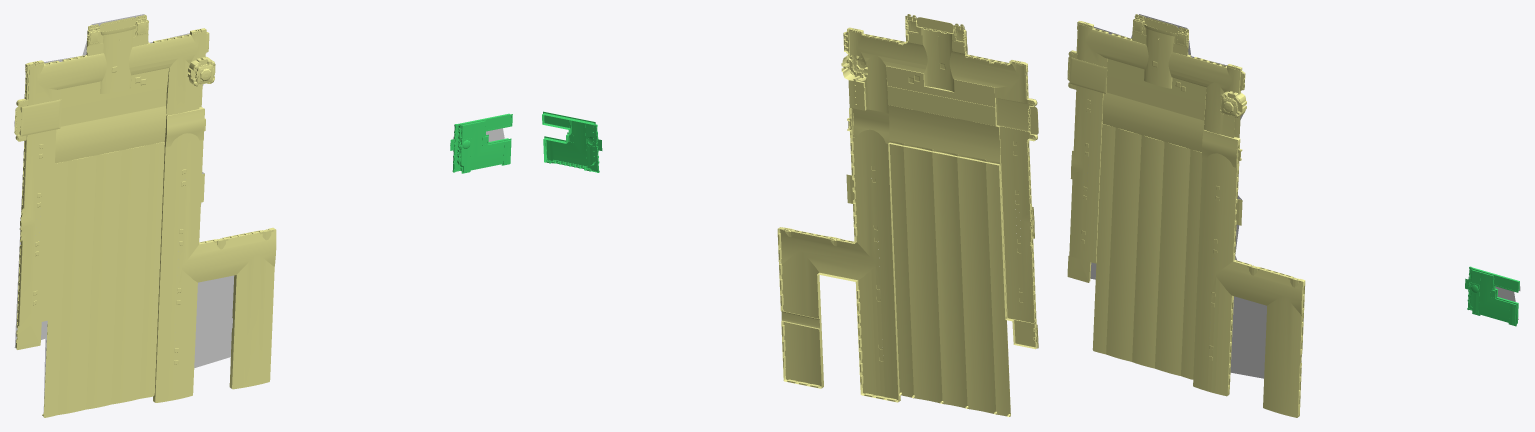
The picture shows the model from 3 angles, left to right: view 1: azimuth 30°, elevation 25°; view 2: azimuth 150°, elevation 25°; view 3: azimuth 330°, elevation 25°; orthographic projection. The views are drawn at different scales.
Bounding box in the file's own units: 2128 × 1634 × 65.09.
